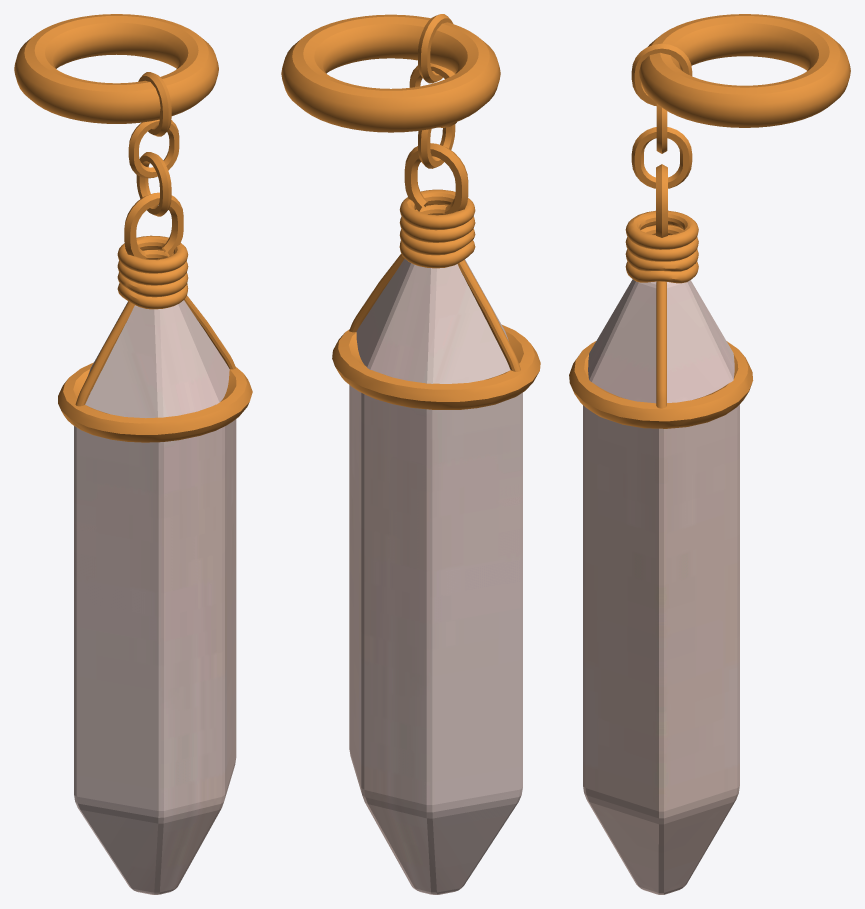
Rendered from Charm-Crystals.fbx.
3 renders of one model, left to right at view 1: azimuth 30°, elevation 25°; view 2: azimuth 150°, elevation 25°; view 3: azimuth 270°, elevation 25°, orthographic. The views are drawn at different scales.
Visible parts, largest first — view 1: Crystal, CharmCrystalH, CharmCrystal; view 2: Crystal, CharmCrystalH, CharmCrystal; view 3: Crystal, CharmCrystal, CharmCrystalH.
Boxes of the visible parts, bbox=[...] form: Crystal: bbox=[74, 300, 236, 894]; CharmCrystalH: bbox=[58, 72, 252, 442]; CharmCrystal: bbox=[14, 14, 218, 123]; Crystal: bbox=[349, 259, 522, 894]; CharmCrystalH: bbox=[332, 14, 540, 409]; CharmCrystal: bbox=[281, 14, 500, 132]; Crystal: bbox=[583, 279, 739, 894]; CharmCrystal: bbox=[639, 14, 850, 127]; CharmCrystalH: bbox=[569, 43, 753, 428].
Bounding box in the file's own units: 14.71 × 64.89 × 19.54.
